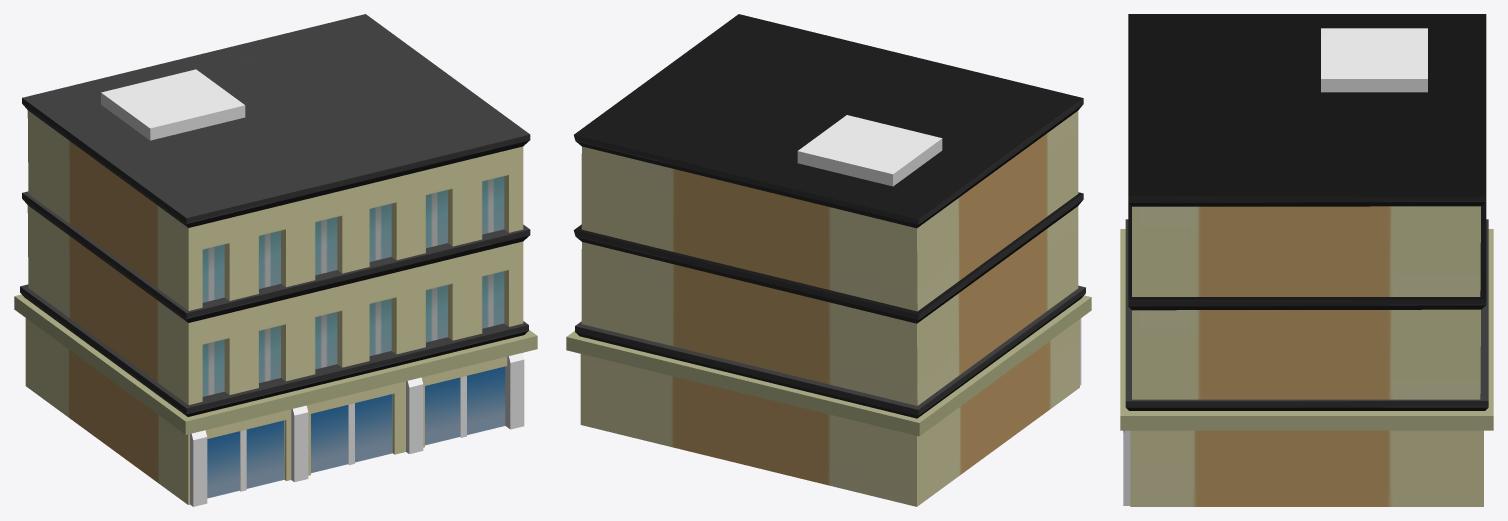
Rendered from French Stack House 2.fbx.
3 views of the same model, side by side, from view 1: azimuth 30°, elevation 25°; view 2: azimuth 150°, elevation 25°; view 3: azimuth 270°, elevation 25° (orthographic). The views are drawn at different scales.
Visible parts, largest first — view 1: French Stack House 2; view 2: French Stack House 2; view 3: French Stack House 2.
Part boxes in pixels (<box>): French Stack House 2: <box>14,14,537,506</box>; French Stack House 2: <box>566,14,1091,506</box>; French Stack House 2: <box>1120,14,1493,506</box>.
Bounding box in the file's own units: 4.19 × 3.42 × 3.54.
